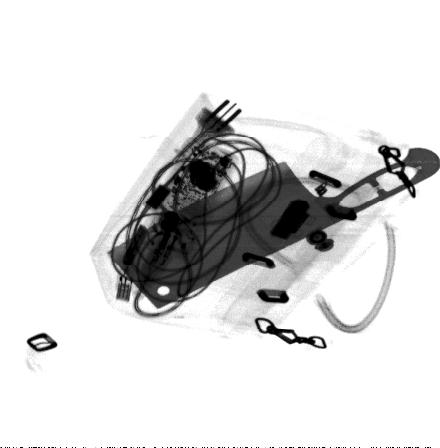Knife: (104, 146, 439, 312)
